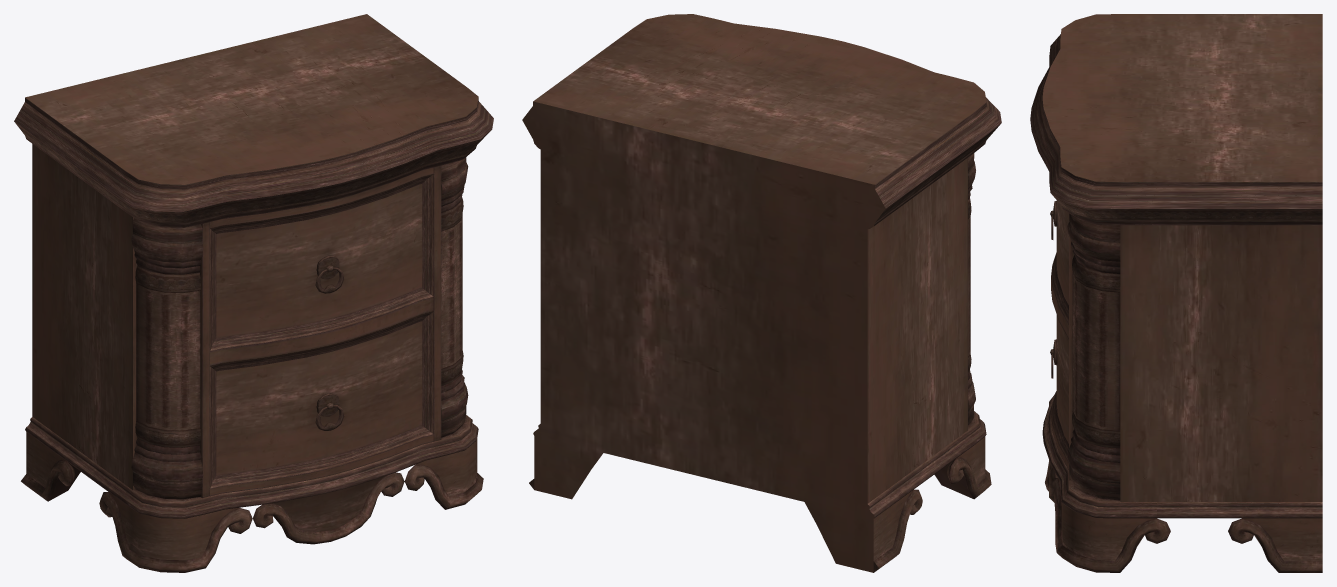
File: comoda.glb
3 views of the same model, side by side, from view 1: azimuth 30°, elevation 25°; view 2: azimuth 150°, elevation 25°; view 3: azimuth 270°, elevation 25° (orthographic).
Parts seen in each view (by area): view 1: Dresser_01; view 2: Dresser_01; view 3: Dresser_01.
Part boxes in pixels (box(x1,y1,x2,y2)): Dresser_01: box(14, 14, 493, 572); Dresser_01: box(522, 14, 1001, 572); Dresser_01: box(1030, 14, 1322, 572).
Size of the model in its own units: 0.8343 by 0.8513 by 0.5763.
2 materials, 2 textured.
